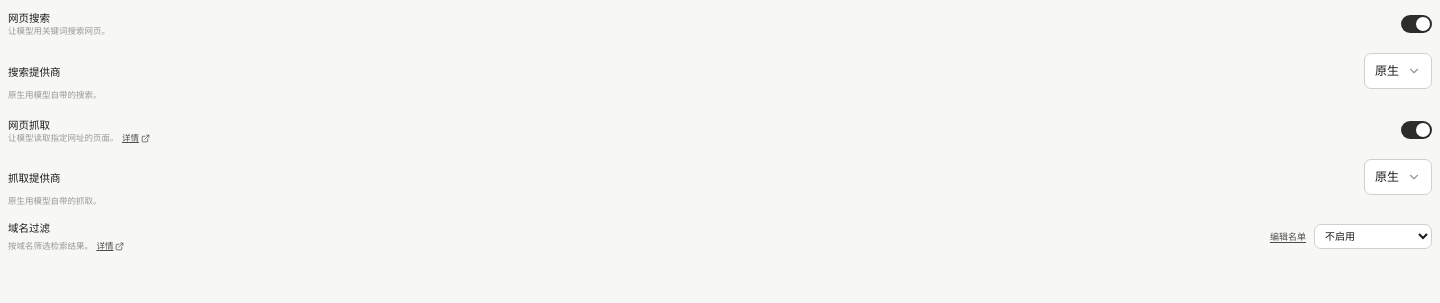
Test: WebSearchBehaviorSettings › lists only enabled providers, and names the native row without a parenthetical
This screenshot has width=1440, height=303.
Click the button with aria-label "搜索提供商：" at (1398,71), box [1364,53,1432,89]
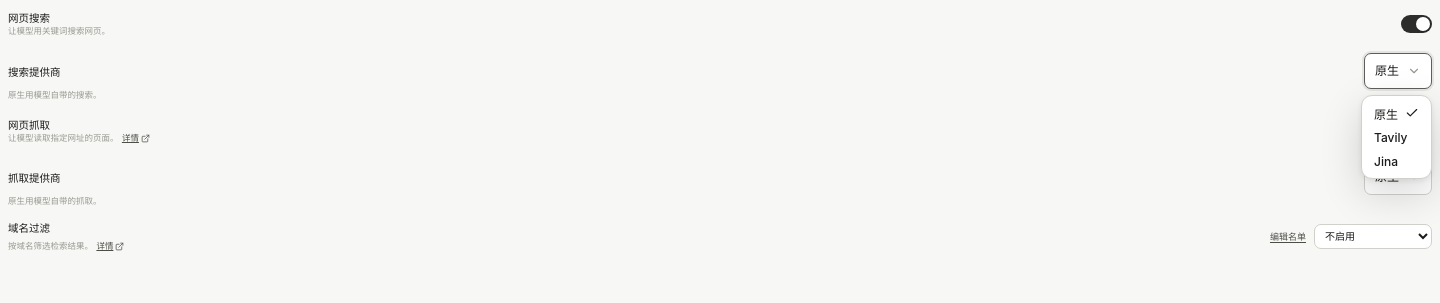
Expected: the menu item "原生" is shown, [1367,101,1426,125]
Expected: the menu item "Tavily" is shown, [1367,125,1426,149]
Press Escape
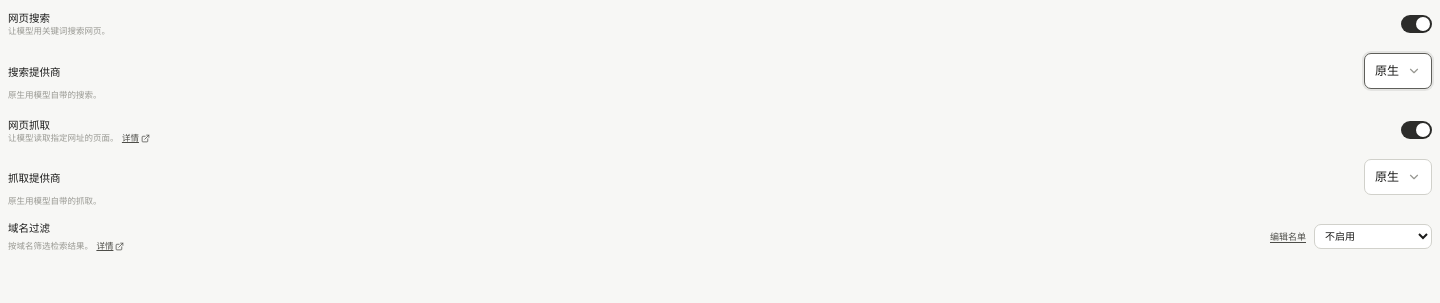
Click the button with aria-label "抓取提供商：" at (1398,177), box [1364,159,1432,195]
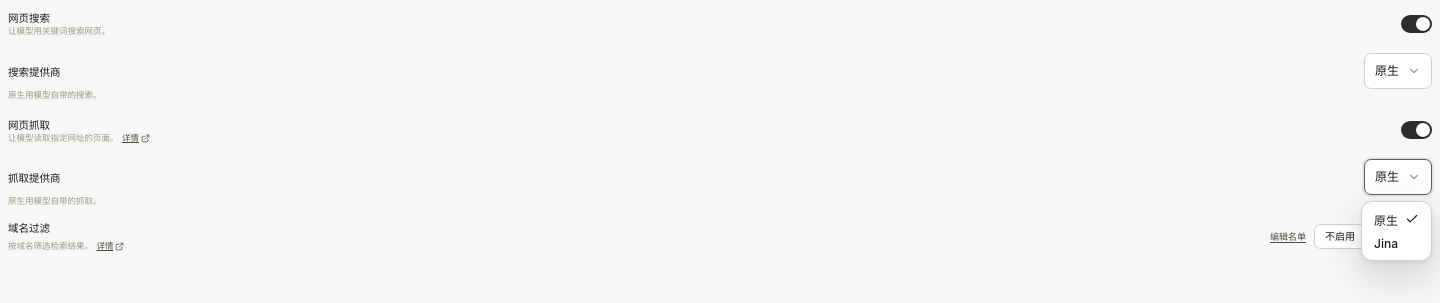
Expected: the menu item "Tavily" is not shown
Expected: the menu item "原生" is shown, [1367,207,1426,231]
Expected: the menu item "Jina" is shown, [1367,231,1426,255]
